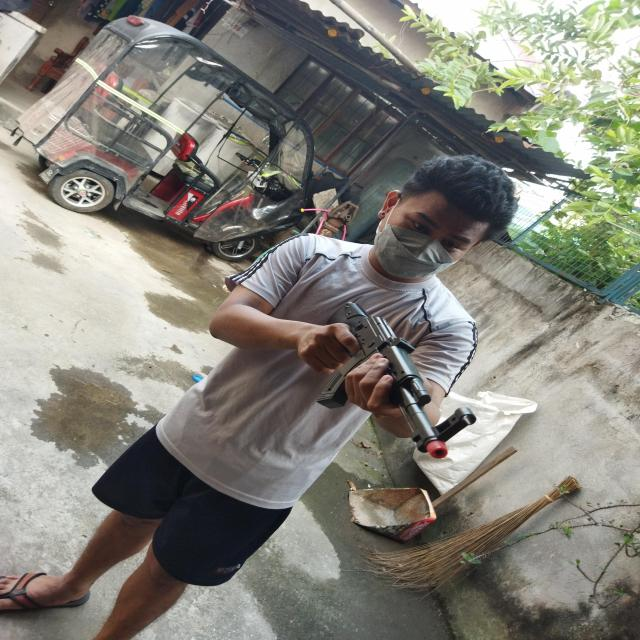rifle: (316, 302, 475, 458)
